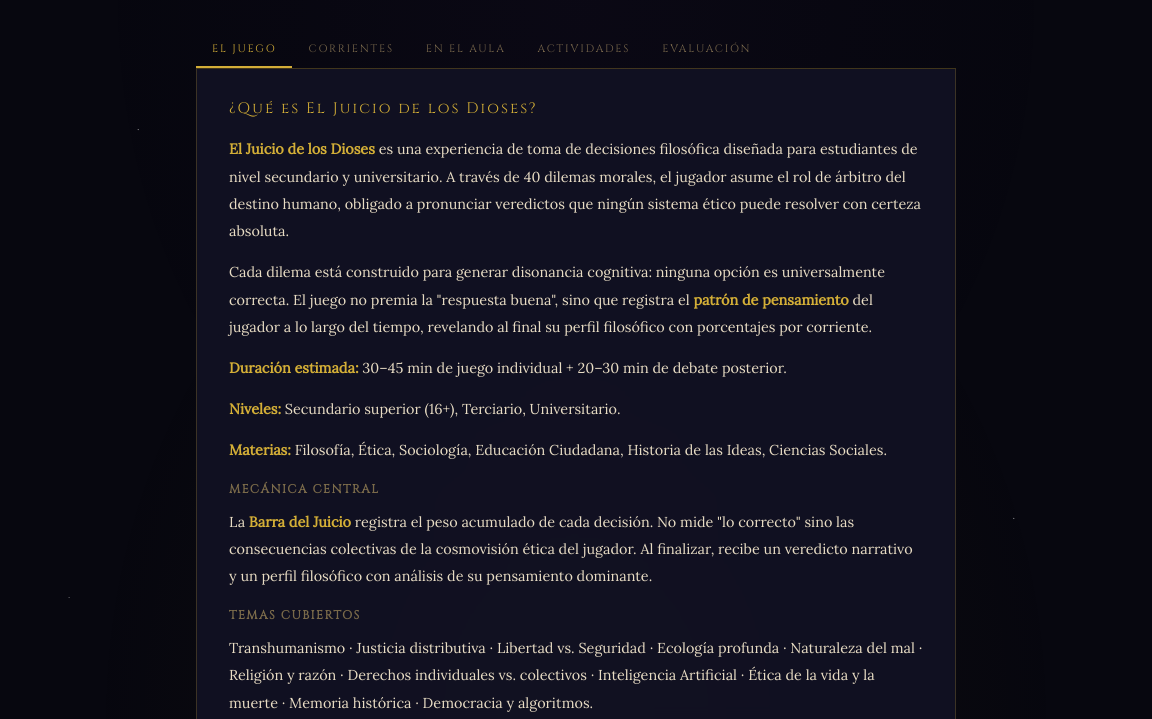
Scenario: InfoScreen › switches tabs without showing multiple panels at once
Click the button "En el Aula": (466, 50) [410,32,522,68]
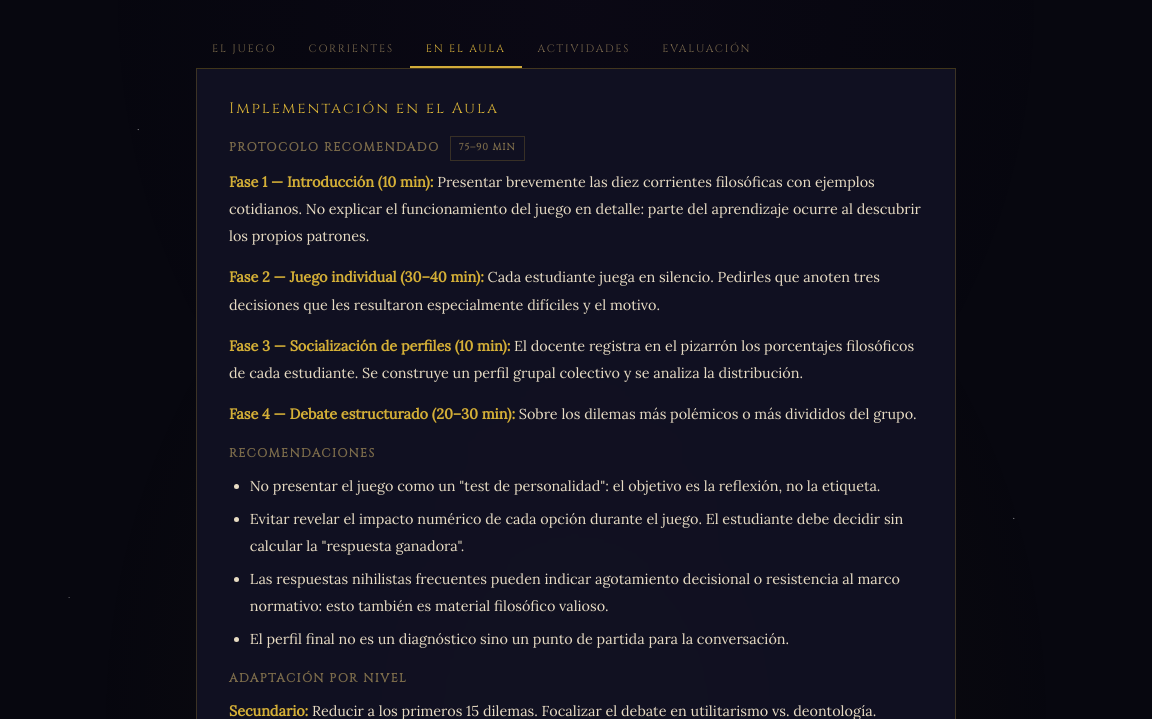
expect the text "Implementación en el Aula" is shown: met, box [229,98,499,119]
expect the text "¿Qué es El Juicio de los Dioses?" is gone: met
Click the button "Evaluación": (707, 50) [646,32,767,68]
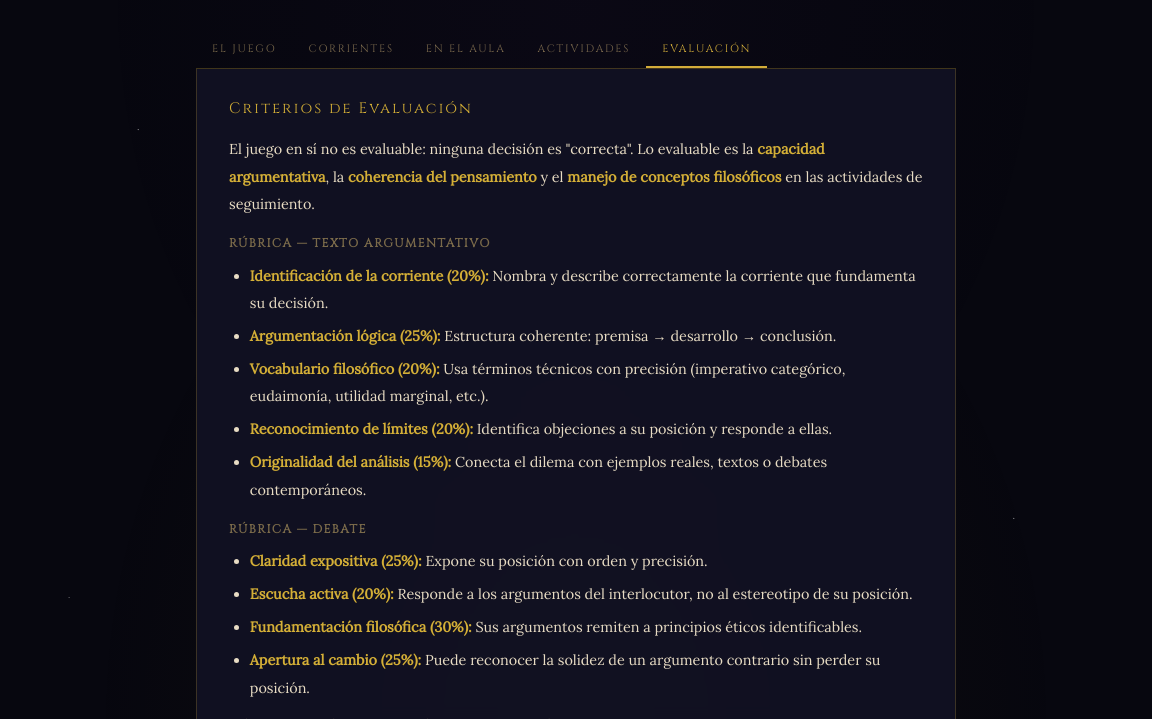
expect the text "Criterios de Evaluación" is shown: met, box [229,98,473,119]
expect the text "Implementación en el Aula" is gone: met
